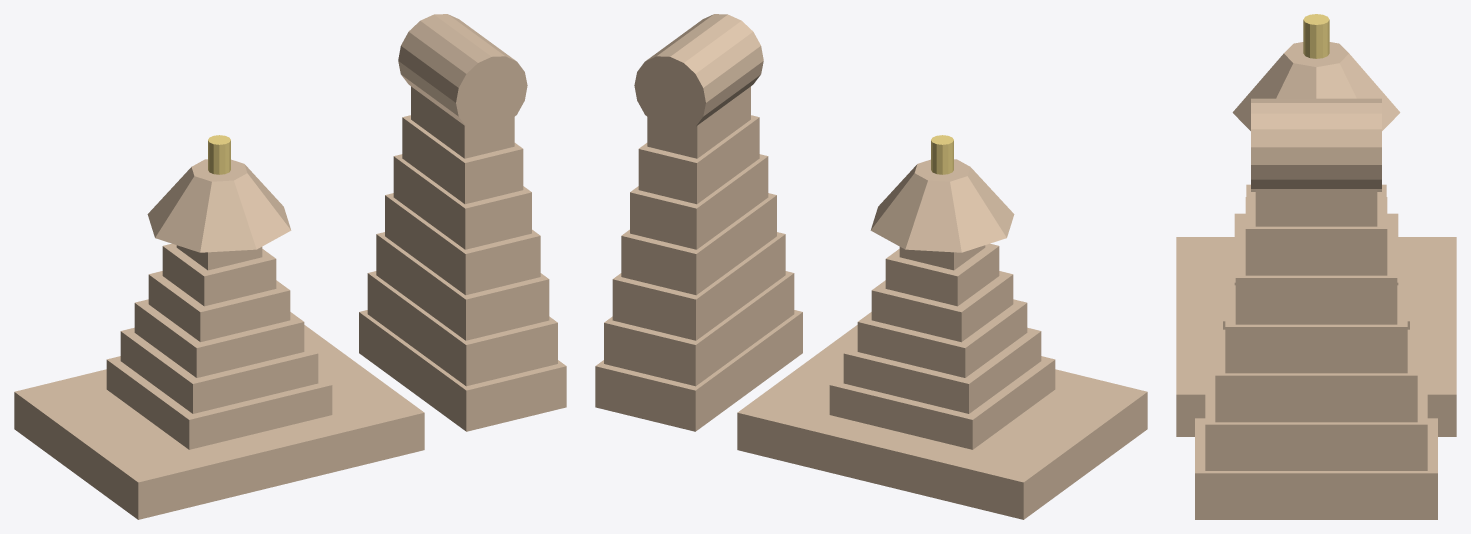
The model's file is dravidian_s5.glb.
3 renders of one model, left to right at view 1: azimuth 30°, elevation 25°; view 2: azimuth 150°, elevation 25°; view 3: azimuth 270°, elevation 25°, orthographic. The views are drawn at different scales.
Visible parts, largest first — view 1: Cube, Cylinder.001, Cube.007, Cone, Cube.008, Cube.001, Cube.009, Cube.002, Cube.010, Cube.011, Cube.003, Cube.012 (+5 smaller); view 2: Cube, Cylinder.001, Cube.007, Cone, Cube.008, Cube.001, Cube.009, Cube.002, Cube.010, Cube.011, Cube.003, Cube.012 (+5 smaller); view 3: Cube, Cube.007, Cylinder.001, Cube.008, Cube.009, Cube.010, Cube.011, Cube.012, Cone, Cube.013, Cube.001, Cylinder (+1 smaller).
Boxes of the visible parts, left/top/right/bottom form: Cube: left=14, top=325, right=424, bottom=519; Cylinder.001: left=398, top=14, right=527, bottom=132; Cube.007: left=359, top=310, right=566, bottom=431; Cone: left=147, top=159, right=291, bottom=252; Cube.008: left=367, top=271, right=557, bottom=386; Cube.001: left=106, top=356, right=332, bottom=449; Cube.009: left=376, top=232, right=549, bottom=340; Cube.002: left=120, top=327, right=318, bottom=413; Cube.010: left=385, top=193, right=540, bottom=295; Cube.011: left=393, top=154, right=531, bottom=249; Cube.003: left=134, top=299, right=304, bottom=377; Cube.012: left=402, top=115, right=523, bottom=204; Cube: left=737, top=325, right=1147, bottom=519; Cylinder.001: left=634, top=14, right=763, bottom=132; Cube.007: left=595, top=310, right=802, bottom=431; Cone: left=870, top=159, right=1014, bottom=252; Cube.008: left=604, top=271, right=794, bottom=386; Cube.001: left=829, top=356, right=1055, bottom=449; Cube.009: left=612, top=232, right=785, bottom=340; Cube.002: left=843, top=327, right=1041, bottom=413; Cube.010: left=621, top=193, right=776, bottom=295; Cube.011: left=630, top=154, right=768, bottom=249; Cube.003: left=857, top=299, right=1027, bottom=377; Cube.012: left=638, top=115, right=759, bottom=204; Cube: left=1176, top=237, right=1456, bottom=436; Cube.007: left=1195, top=418, right=1437, bottom=519; Cylinder.001: left=1251, top=98, right=1381, bottom=191; Cube.008: left=1205, top=374, right=1427, bottom=470; Cube.009: left=1215, top=329, right=1417, bottom=422; Cube.010: left=1225, top=285, right=1407, bottom=373; Cube.011: left=1235, top=241, right=1397, bottom=324; Cube.012: left=1245, top=197, right=1387, bottom=275; Cone: left=1232, top=42, right=1400, bottom=130; Cube.013: left=1255, top=189, right=1377, bottom=226; Cube.001: left=1223, top=242, right=1409, bottom=329; Cylinder: left=1303, top=14, right=1329, bottom=58.
Bounding box in the file's own units: 6.1 × 4.6 × 3.
